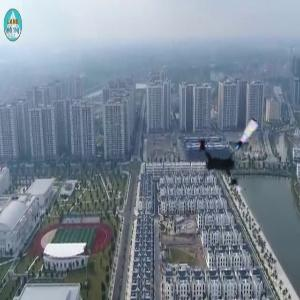drone: (179, 107, 268, 196)
